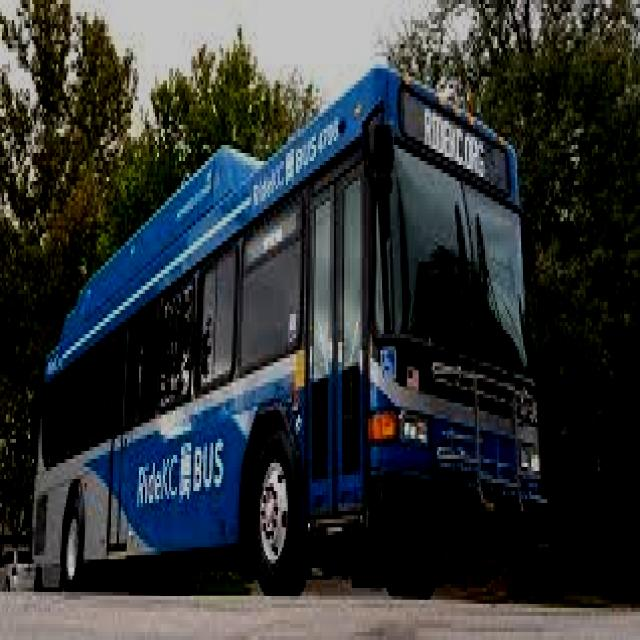bus: (18, 64, 547, 600)
